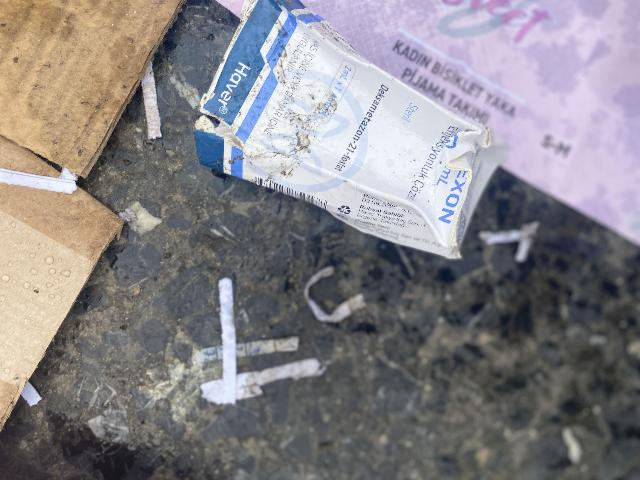Kagit: (195, 0, 508, 261), (1, 133, 124, 433), (0, 0, 188, 177)
